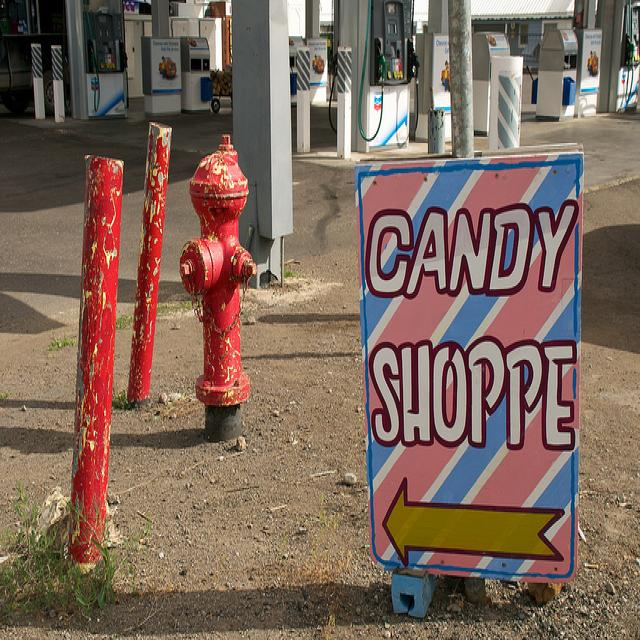Vehicle: (0, 35, 34, 114)
